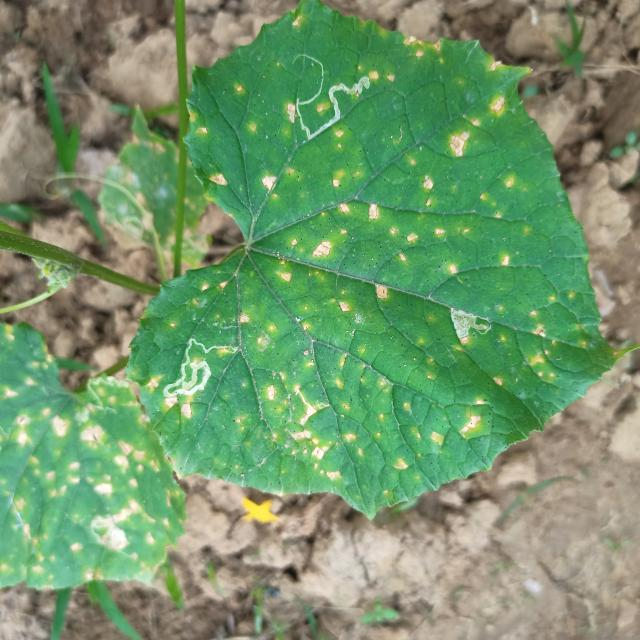disease_cucumber: (147, 51, 551, 485), (0, 343, 145, 584)
